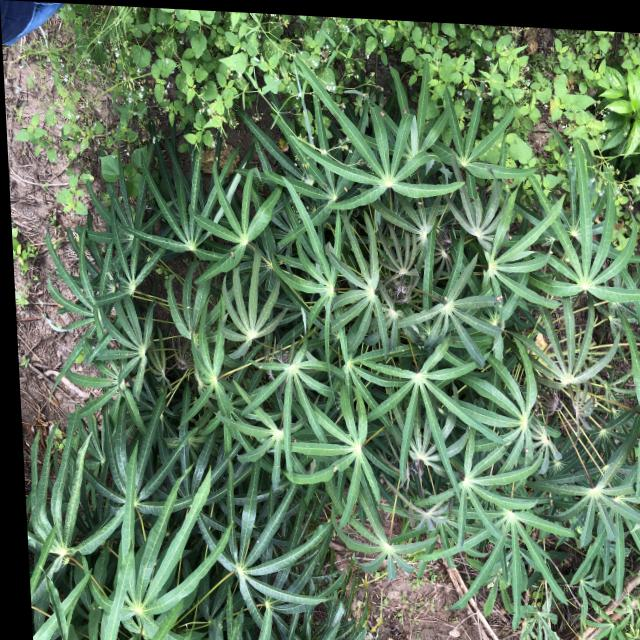Maleza: (118, 4, 325, 114), (472, 20, 640, 139)
Mosca: (492, 291, 508, 313), (220, 243, 237, 262), (340, 179, 354, 196), (501, 228, 514, 245), (410, 194, 425, 206), (437, 292, 450, 303), (376, 106, 387, 118)
